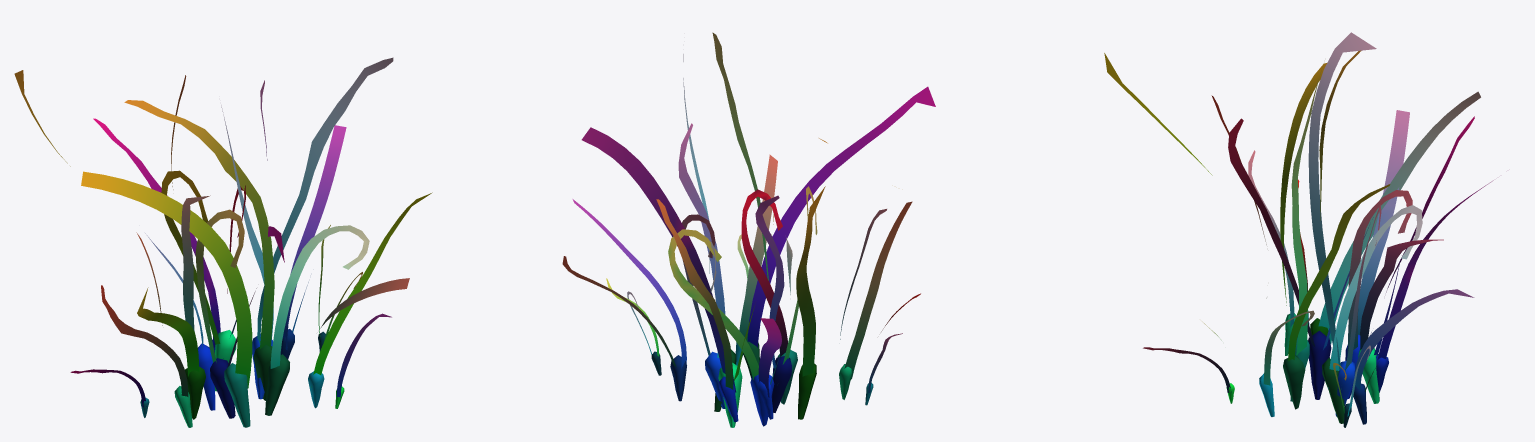
File: Ribbon_Grass_tbdpec3r_High_tbdpec3r_VarE_LOD0.glb
3 renders of one model, left to right at view 1: azimuth 30°, elevation 25°; view 2: azimuth 150°, elevation 25°; view 3: azimuth 270°, elevation 25°, orthographic. The views are drawn at different scales.
Parts seen in each view (by area): view 1: _8f3e_VarE_LOD0; view 2: _8f3e_VarE_LOD0; view 3: _8f3e_VarE_LOD0.
Boxes of the visible parts, x1,y1,x2,y2 form: _8f3e_VarE_LOD0: [14, 57, 432, 427]; _8f3e_VarE_LOD0: [562, 32, 935, 427]; _8f3e_VarE_LOD0: [1104, 32, 1493, 427].
Size of the model in its own units: 0.343 by 0.2889 by 0.2879.
